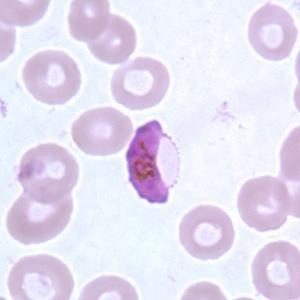Infected: (123, 118, 182, 204)
Uninfected: (7, 176, 74, 245), (17, 143, 79, 203), (22, 51, 83, 105), (72, 105, 133, 157), (178, 205, 235, 260), (8, 254, 75, 300), (112, 57, 171, 109), (237, 176, 290, 233), (252, 241, 300, 300), (248, 3, 297, 60), (87, 14, 137, 66), (67, 0, 112, 43)
